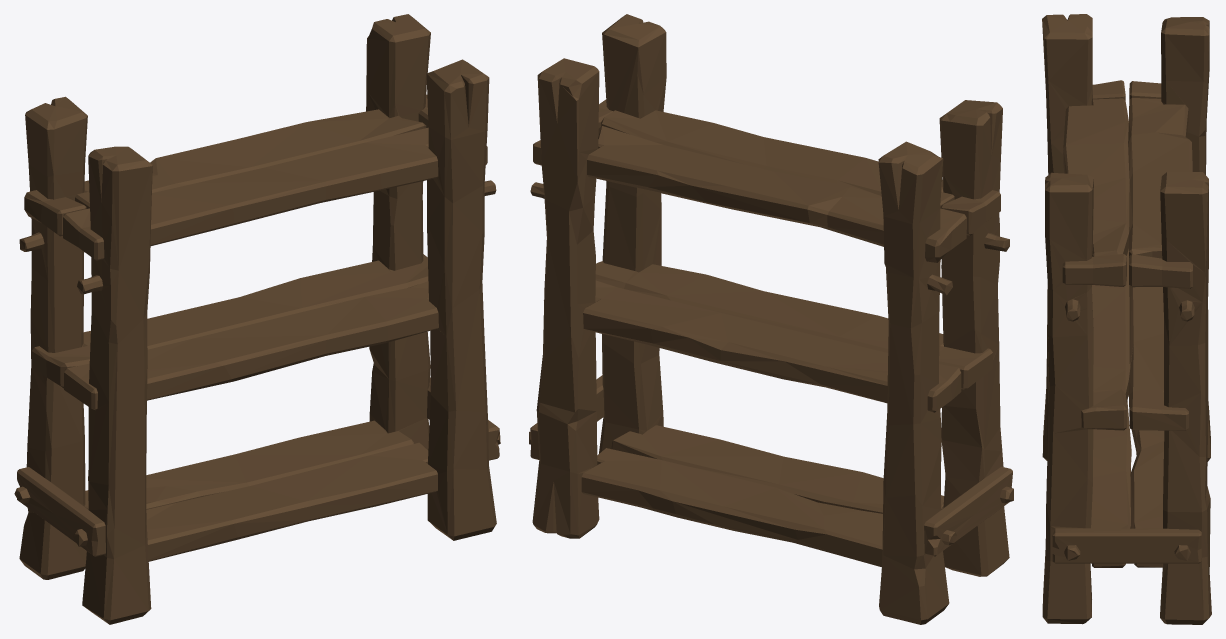
The model's file is WoodenCraftingShelf.fbx.
3 renders of one model, left to right at view 1: azimuth 30°, elevation 25°; view 2: azimuth 150°, elevation 25°; view 3: azimuth 270°, elevation 25°, orthographic. The views are drawn at different scales.
Parts seen in each view (by area): view 1: WoodenCraftingShelf; view 2: WoodenCraftingShelf; view 3: WoodenCraftingShelf.
Boxes of the visible parts, bbox=[...] form: WoodenCraftingShelf: bbox=[14, 14, 500, 624]; WoodenCraftingShelf: bbox=[529, 14, 1013, 624]; WoodenCraftingShelf: bbox=[1042, 14, 1211, 624].
Bounding box in the file's own units: 1.76 × 0.6474 × 1.83.
